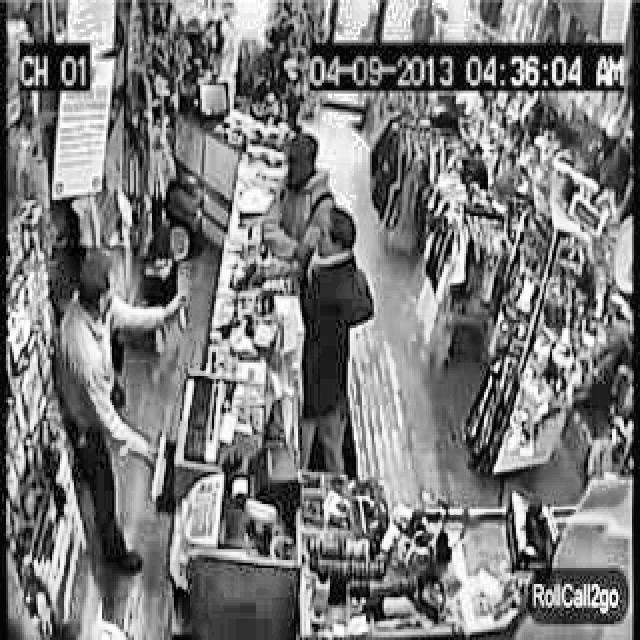robbery: (227, 126, 374, 476)
